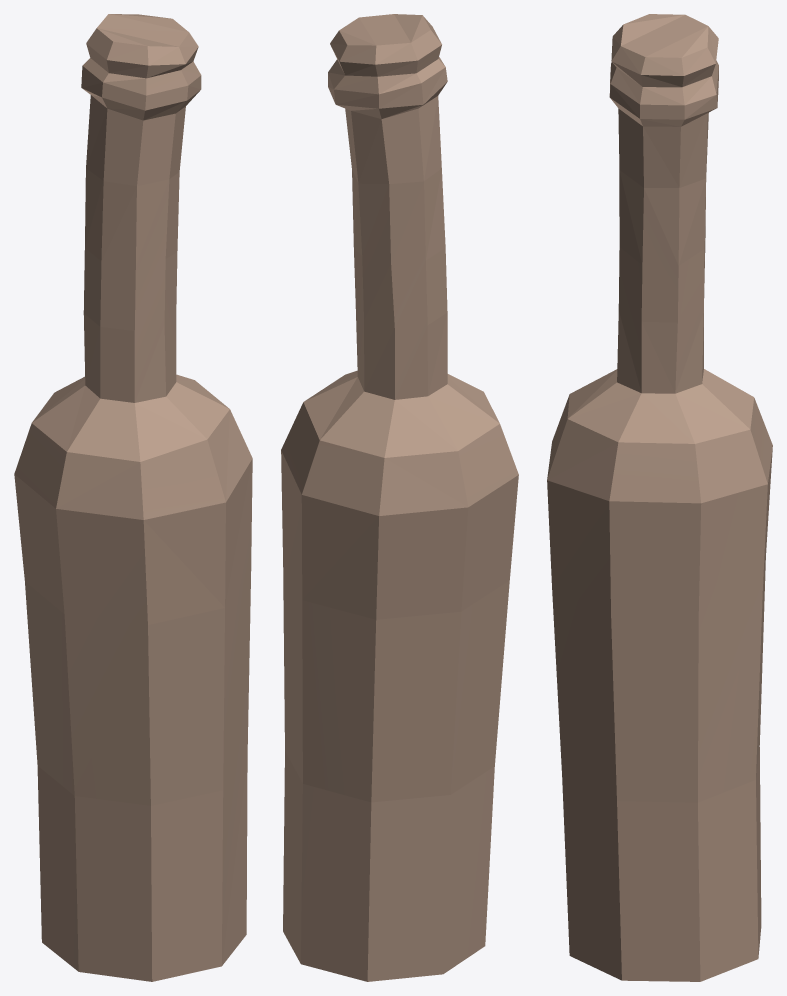
File: Bottle02.fbx
3 views of the same model, side by side, from view 1: azimuth 30°, elevation 25°; view 2: azimuth 150°, elevation 25°; view 3: azimuth 270°, elevation 25° (orthographic).
Visible parts, largest first — view 1: beer_bottle_0; view 2: beer_bottle_0; view 3: beer_bottle_0.
Boxes of the visible parts, bbox=[...] form: beer_bottle_0: bbox=[14, 14, 252, 981]; beer_bottle_0: bbox=[281, 14, 518, 981]; beer_bottle_0: bbox=[547, 14, 772, 981].
Size of the model in its own units: 0.2779 by 1.23 by 0.278.
